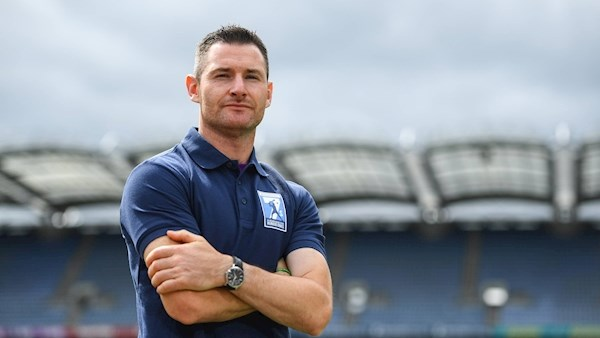player: (137, 19, 335, 333)
